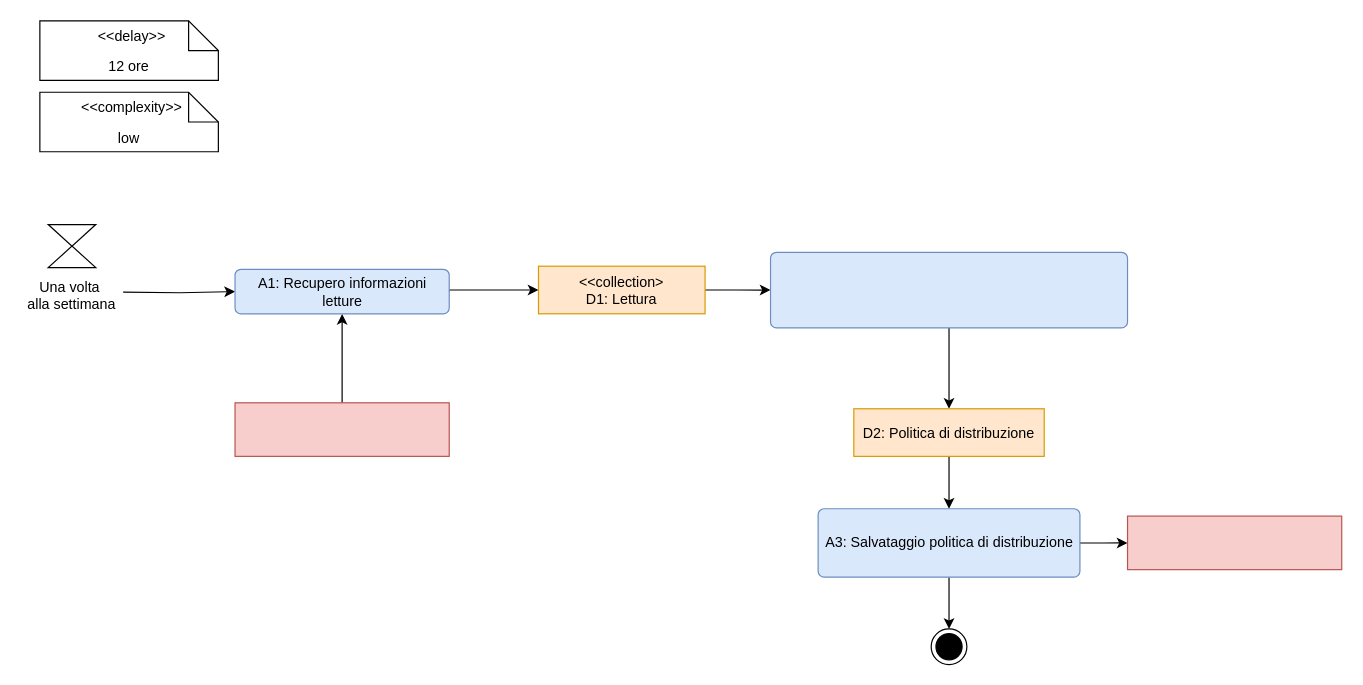
Some shapes in this 1363 by 685 pixel diagram are drawn without their labels. The centre of each missing label's shape, as x and y in pixels:
"<<datastore>> DSLC: Lettura" goes at (x=341, y=429).
"<<datastore>> DSPD: Politica di distribuzione" goes at (x=1234, y=542).
"A2: Analisi dei dati per nuova politica di distribuzione" goes at (x=948, y=289).
